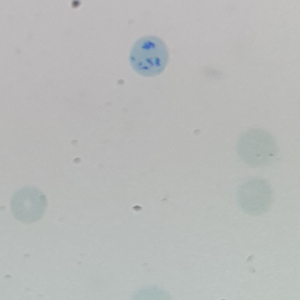aggregate reticulocyte: (127, 35, 171, 78)
erythrocyte: (235, 175, 276, 217), (10, 187, 48, 225)
punctate reticulocyte: (237, 126, 278, 169)
